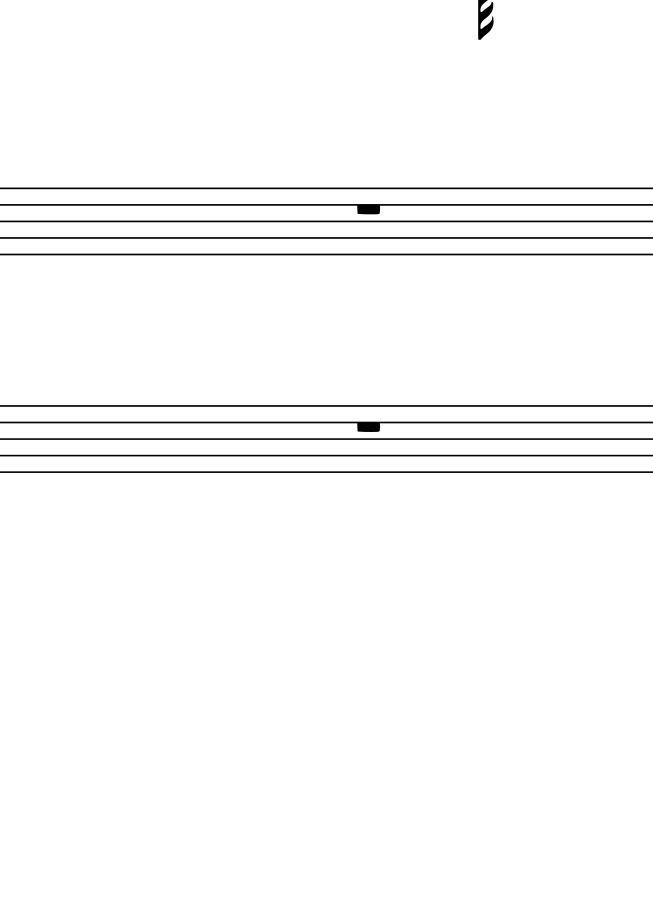Rests1: (352, 416, 385, 437), (352, 200, 385, 219)
